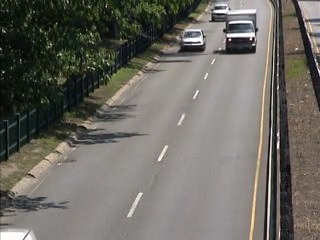car: (177, 28, 208, 53), (209, 2, 232, 23)
truck: (224, 10, 261, 55)
